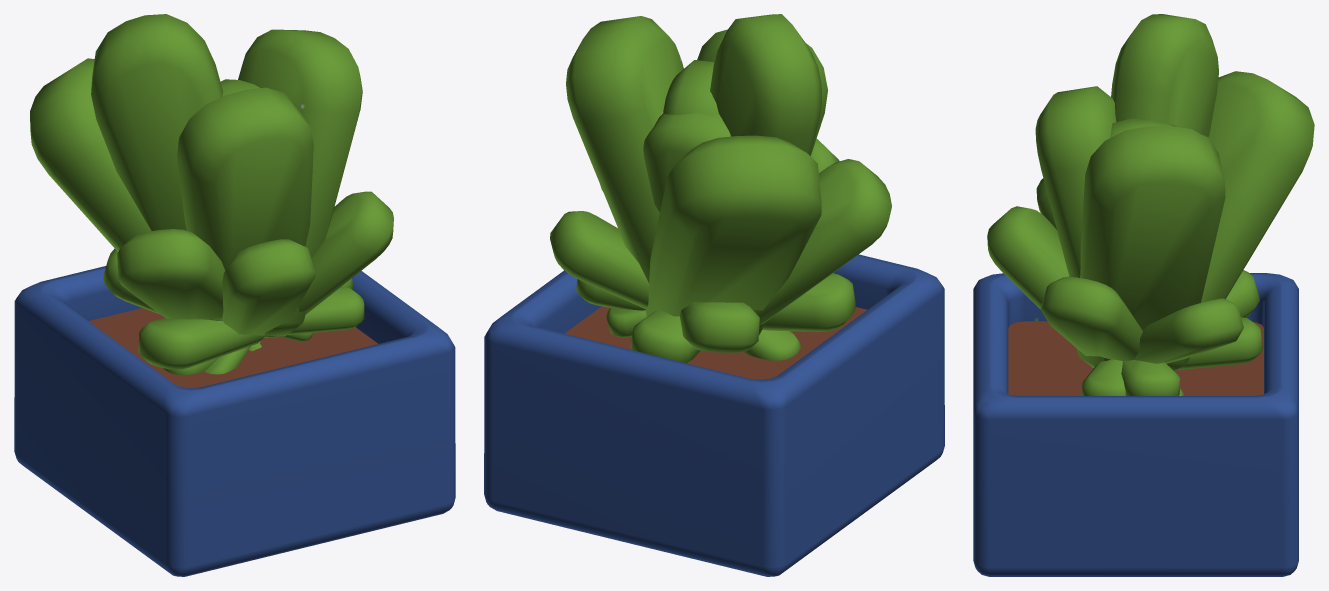
File: Plant3.glb
The picture shows the model from 3 angles, left to right: view 1: azimuth 30°, elevation 25°; view 2: azimuth 150°, elevation 25°; view 3: azimuth 270°, elevation 25°; orthographic projection. The views are drawn at different scales.
Parts seen in each view (by area): view 1: Plant3; view 2: Plant3; view 3: Plant3.
Boxes of the visible parts, <box> form: Plant3: <box>14,14,455,576</box>; Plant3: <box>484,14,944,576</box>; Plant3: <box>973,14,1314,576</box>.
Size of the model in its own units: 0.3051 by 0.4723 by 0.3144.
Materials: 1 (1 with a texture image).
